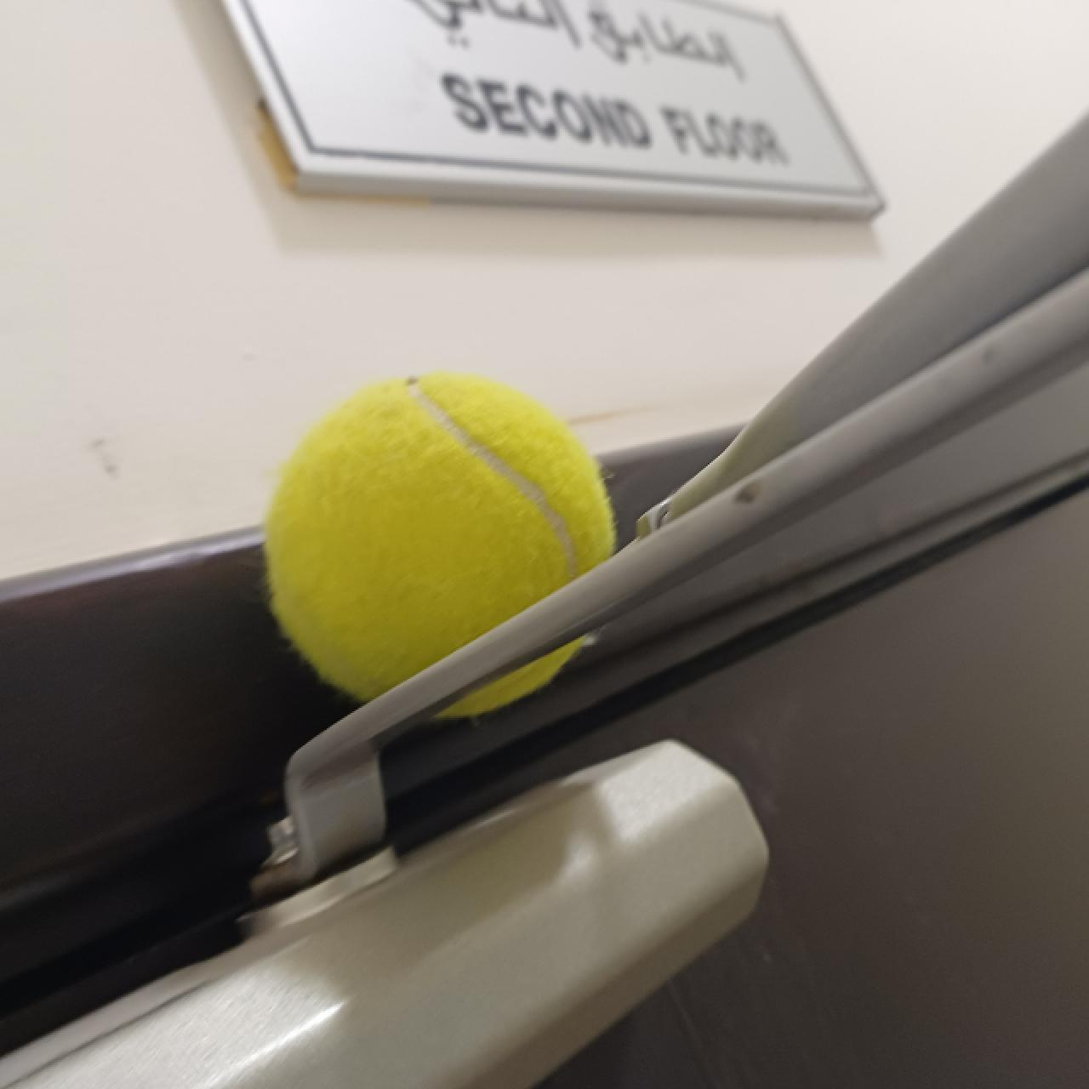tennis-ball: (263, 370, 617, 718)
